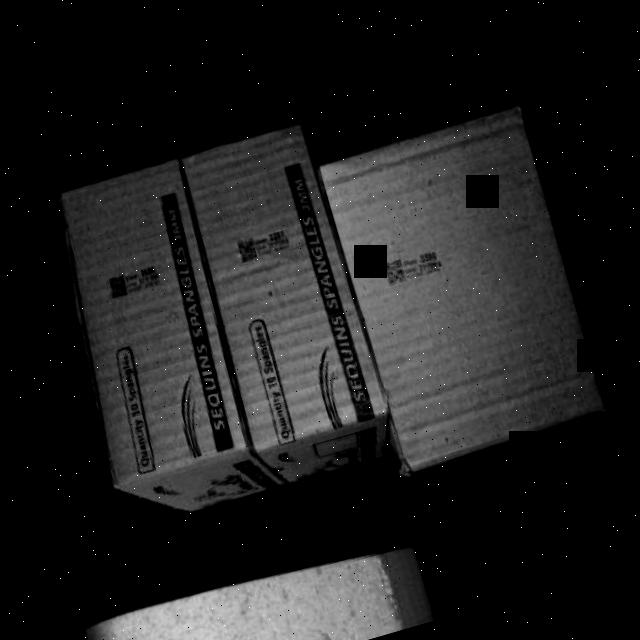box: (320, 109, 606, 468), (174, 120, 386, 442), (35, 160, 248, 478)
